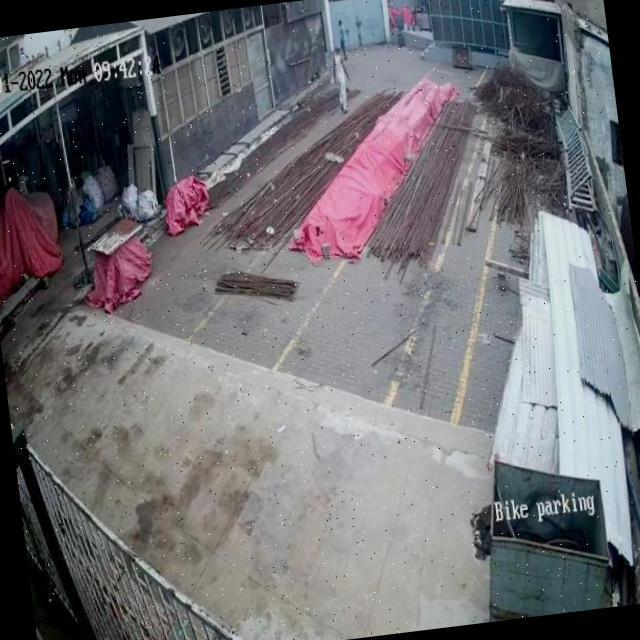person: (328, 42, 352, 111), (338, 13, 351, 55)
